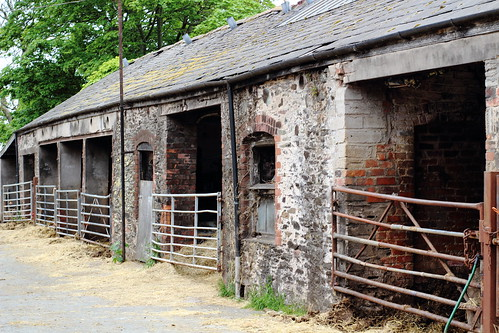building: (29, 37, 495, 327)
tree: (11, 1, 219, 105)
